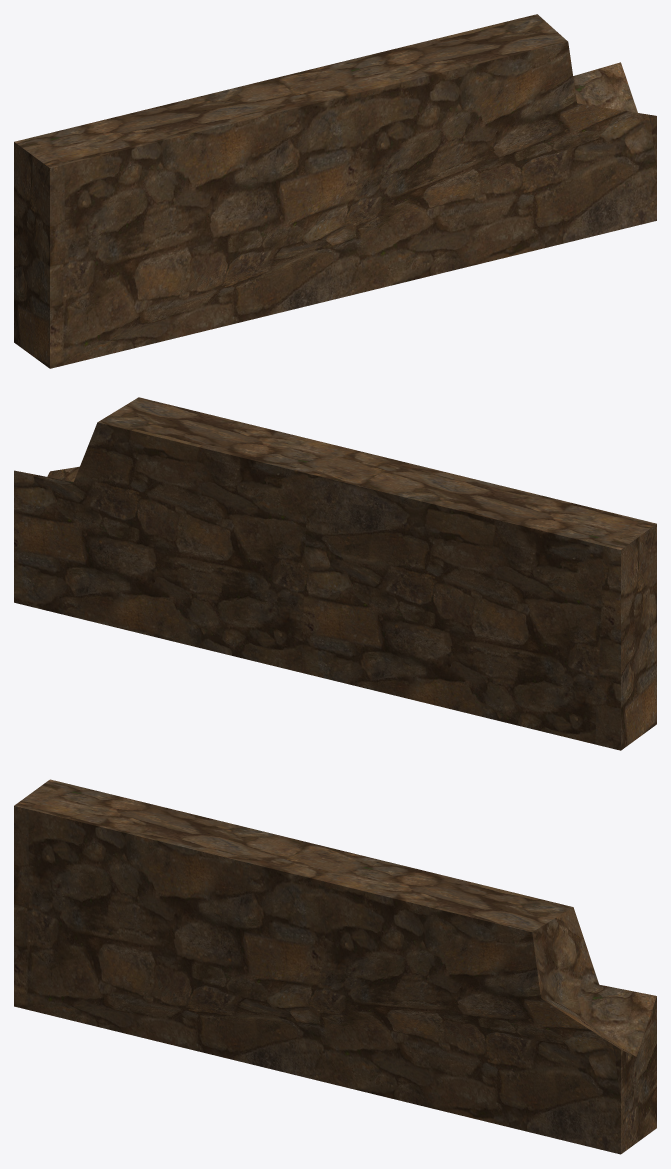
File: stone wall1.fbx
The picture shows the model from 3 angles, top to bottom: view 1: azimuth 30°, elevation 25°; view 2: azimuth 150°, elevation 25°; view 3: azimuth 330°, elevation 25°; orthographic projection.
Visible parts, largest first — view 1: Cube.001; view 2: Cube.001; view 3: Cube.001.
Boxes of the visible parts, left/top/right/bottom form: Cube.001: left=14, top=14, right=656, bottom=368; Cube.001: left=14, top=397, right=656, bottom=750; Cube.001: left=14, top=779, right=656, bottom=1154.
Size of the model in its own units: 398 by 126 by 40.98.
Materials: 1 (1 with a texture image).
